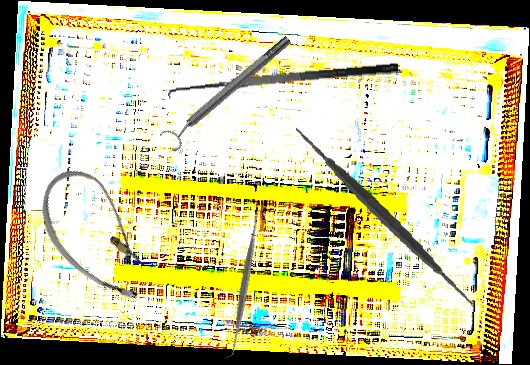Cannula: (19, 156, 177, 315)
Fixation Ring: (158, 29, 298, 154)
Spatula Surgical: (281, 116, 487, 317), (169, 205, 322, 360), (167, 60, 400, 110)
